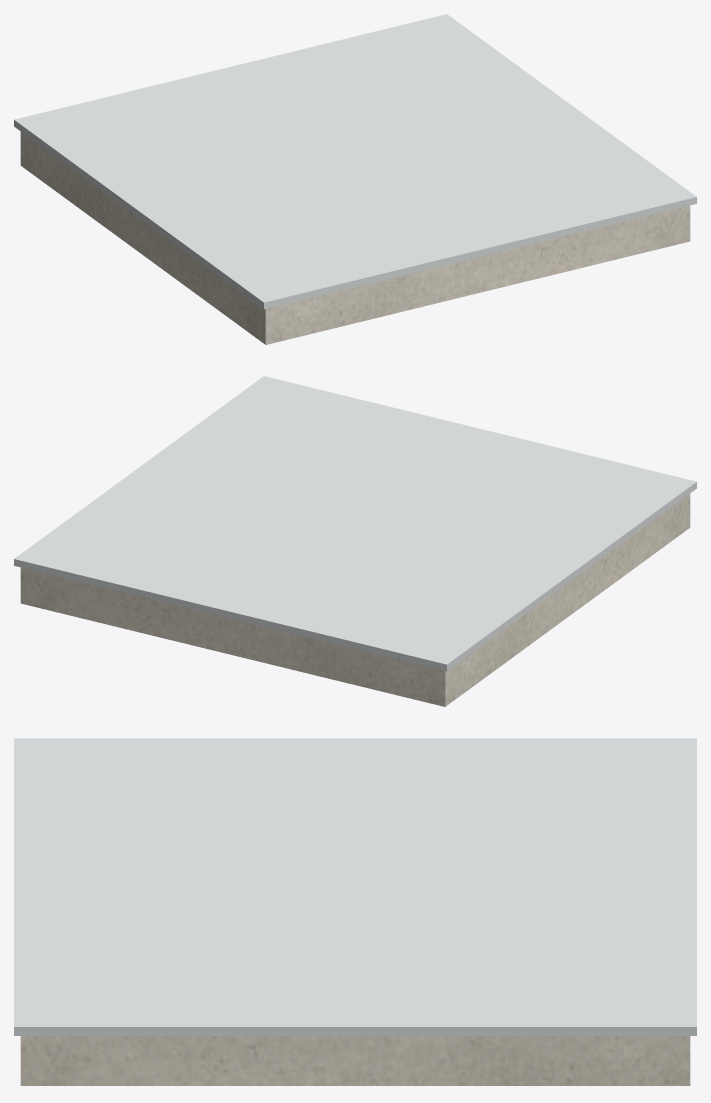
The model's file is floor_tile_bath.glb.
The picture shows the model from 3 angles, top to bottom: view 1: azimuth 30°, elevation 25°; view 2: azimuth 150°, elevation 25°; view 3: azimuth 270°, elevation 25°; orthographic projection. The views are drawn at different scales.
Parts seen in each view (by area): view 1: floor_tile_bath_tile, floor_tile_bath_plaster; view 2: floor_tile_bath_tile, floor_tile_bath_plaster; view 3: floor_tile_bath_tile, floor_tile_bath_plaster.
Part boxes in pixels (x1,y1,x2,y2): floor_tile_bath_tile: (14,14,696,309); floor_tile_bath_plaster: (20,131,690,344); floor_tile_bath_tile: (14,376,696,671); floor_tile_bath_plaster: (20,493,690,706); floor_tile_bath_tile: (14,738,696,1035); floor_tile_bath_plaster: (20,1036,690,1085).
Size of the model in its own units: 2 by 0.2 by 2.
Materials: 2 (1 with a texture image).
